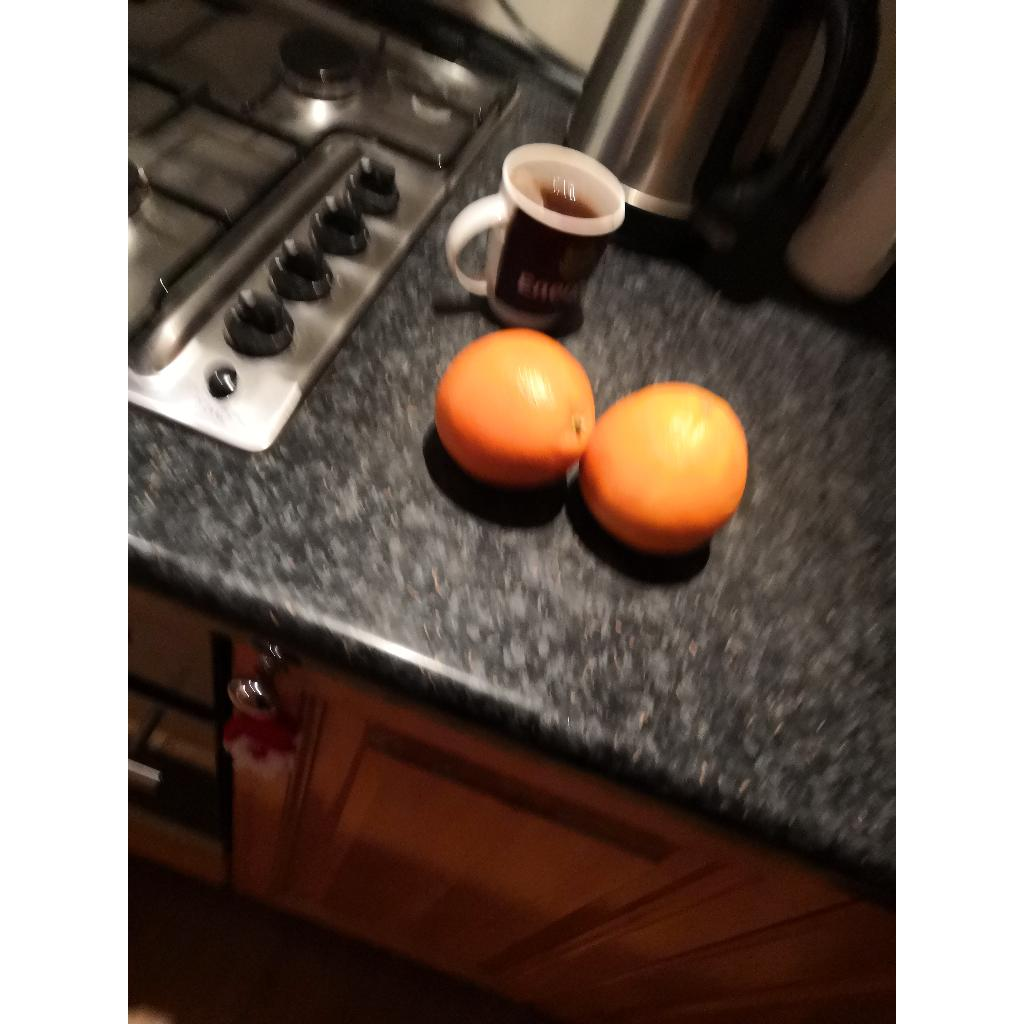orange: (580, 382, 748, 554), (436, 328, 594, 488)
